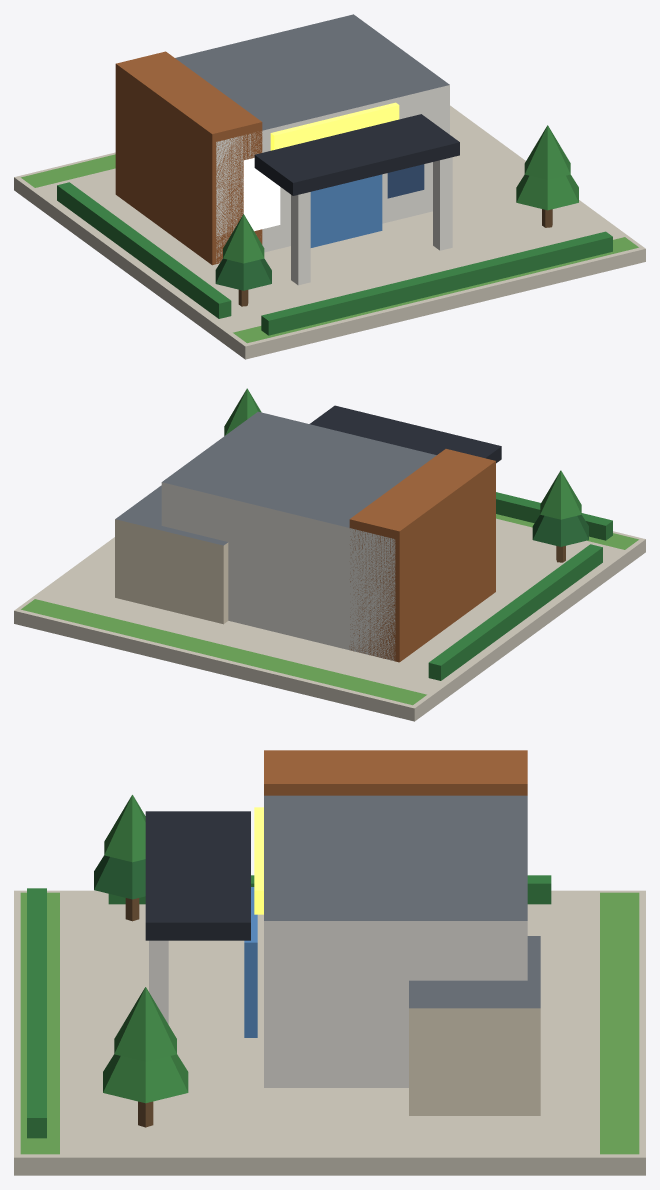
3 views of the same model, one above another, from view 1: azimuth 30°, elevation 25°; view 2: azimuth 150°, elevation 25°; view 3: azimuth 270°, elevation 25° (orthographic). The views are drawn at different scales.
Visible parts, largest first — view 1: b23; view 2: b23; view 3: b23.
Part boxes in pixels (x1,y1,x2,y2): b23: (14, 14, 645, 359); b23: (14, 388, 645, 721); b23: (14, 750, 645, 1175).
Size of the model in its own units: 0.96 by 0.33 by 0.96.
